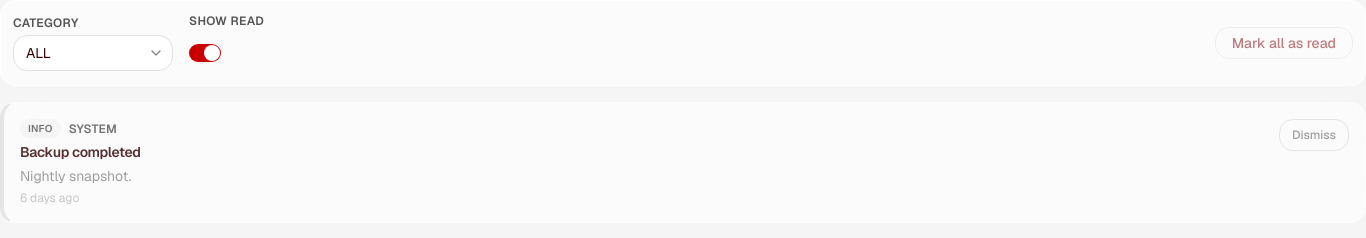
NotificationList › renders the empty state when no notifications match the filters
Step 1. Click the switch named "Show read notifications" → (205,53), box 189,44 -> 221,62
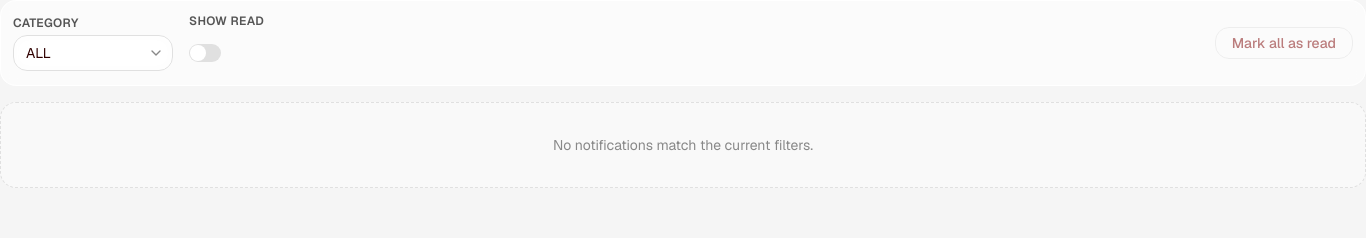
expect the text "No notifications match the current filters." is shown: met, box 0,102 -> 1365,188
